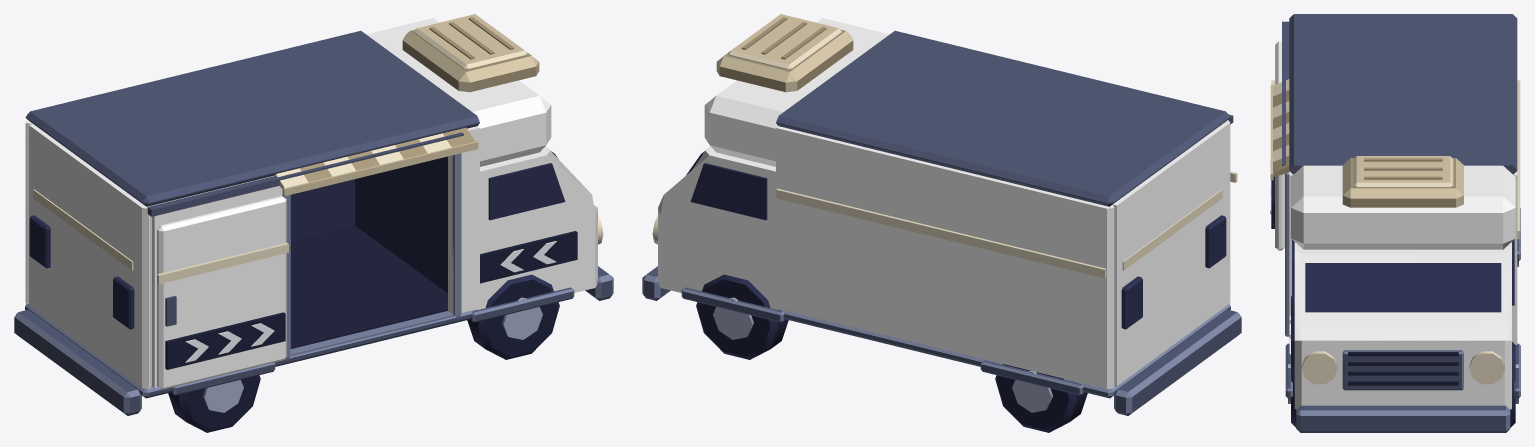
The model's file is VanBakery.fbx.
3 renders of one model, left to right at view 1: azimuth 30°, elevation 25°; view 2: azimuth 150°, elevation 25°; view 3: azimuth 270°, elevation 25°, orthographic. The views are drawn at different scales.
Visible parts, largest first — view 1: VanBakery, VanBakery_Paint; view 2: VanBakery_Paint, VanBakery; view 3: VanBakery, VanBakery_Paint.
Boxes of the visible parts, x1=… form: VanBakery: x1=14, y1=14, x2=613, y2=432; VanBakery_Paint: x1=25, y1=18, x2=597, y2=389; VanBakery_Paint: x1=658, y1=18, x2=1230, y2=389; VanBakery: x1=642, y1=14, x2=1241, y2=432; VanBakery: x1=1270, y1=14, x2=1520, y2=432; VanBakery_Paint: x1=1275, y1=41, x2=1517, y2=409.
Bounding box in the file's own units: 14.9 × 8 × 7.04.
Materials: 1 (1 with a texture image).
